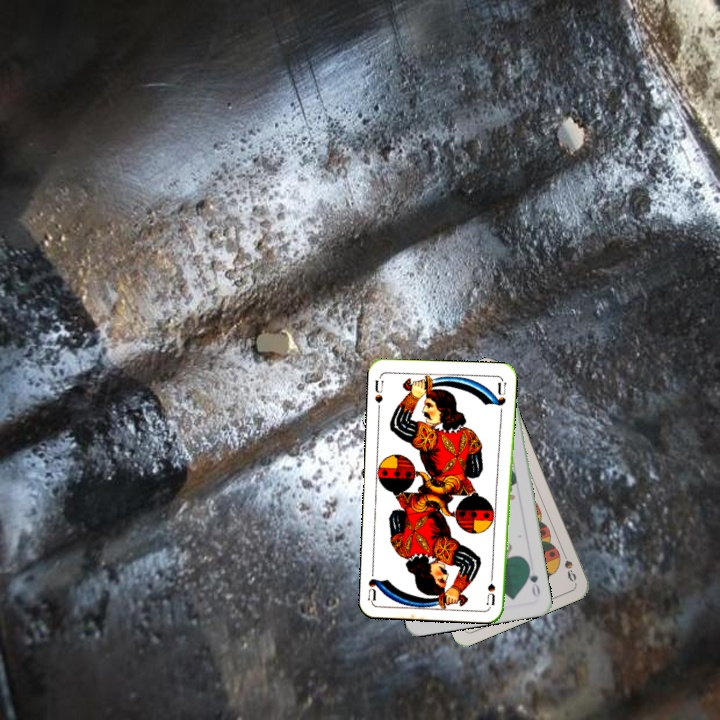GO: (523, 561, 543, 600)
S9: (557, 545, 579, 584)
SU: (483, 566, 498, 607), (371, 376, 386, 405)
